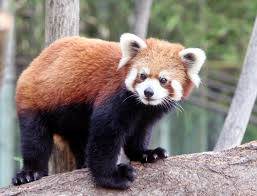redPanda: (8, 27, 206, 185)
